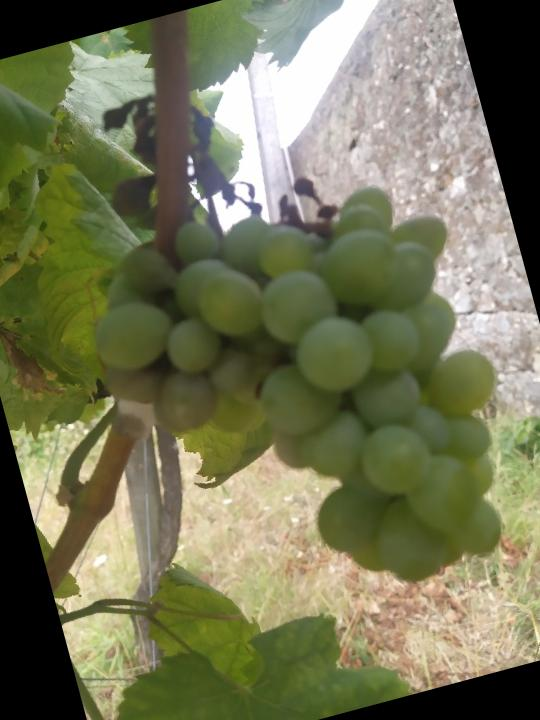grape: (31, 24, 540, 650)
